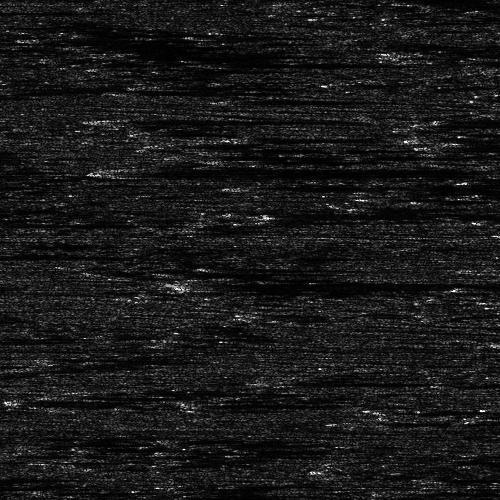object: (161, 277, 244, 290), (172, 132, 277, 141), (199, 93, 272, 102), (0, 246, 25, 259), (111, 114, 142, 123), (480, 264, 500, 275), (8, 397, 39, 402), (132, 164, 143, 175), (0, 216, 6, 225)
shadow: (203, 277, 500, 290), (138, 164, 456, 175), (0, 246, 186, 259), (127, 114, 355, 123), (0, 216, 155, 225), (236, 93, 378, 102), (225, 132, 367, 141), (24, 397, 152, 402), (431, 144, 500, 147), (0, 482, 28, 489)
